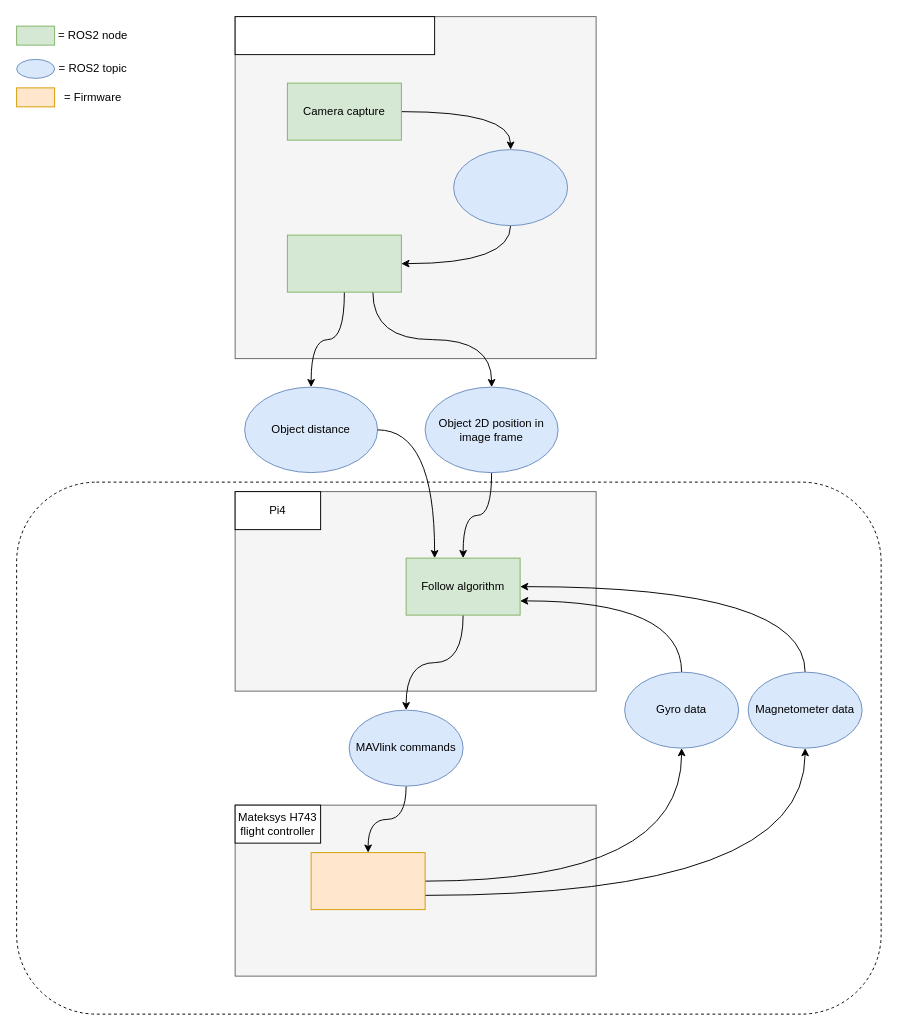
Image size: 898x1031. Some labels were removed from this diagram. Each missing label, with the centre of its shape:
"ArduPilot" goes at [367,881].
"Image data" goes at [510,187].
"Image processing HW config #X" goes at [334,35].
"Object detection" goes at [343,263].
